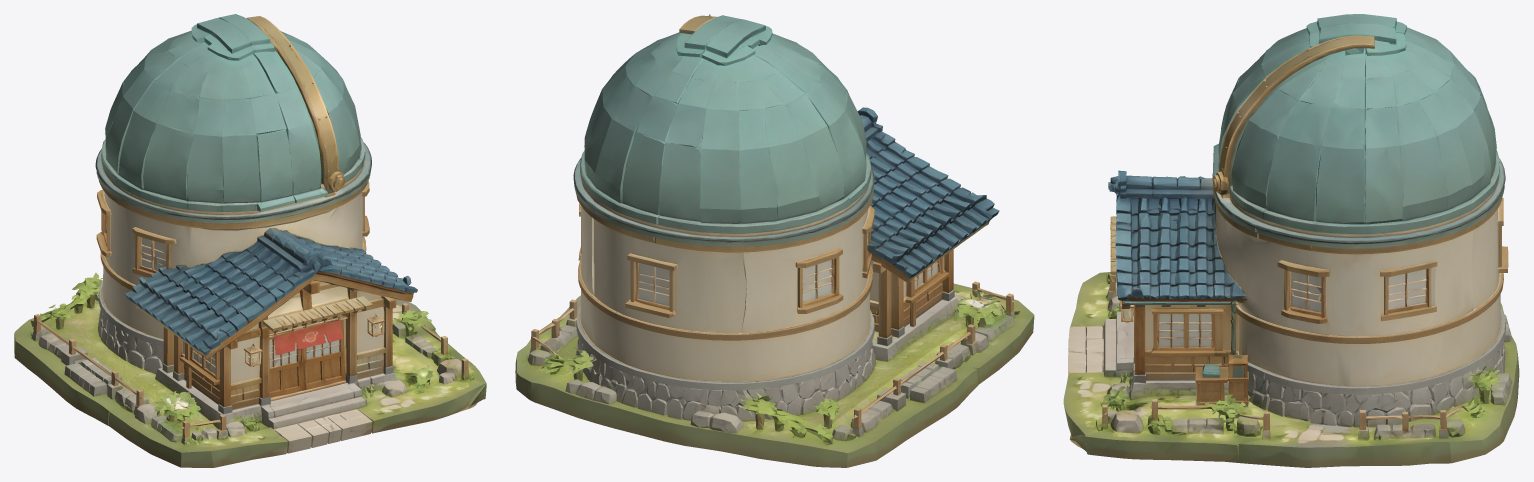
3 views of the same model, side by side, from view 1: azimuth 30°, elevation 25°; view 2: azimuth 150°, elevation 25°; view 3: azimuth 270°, elevation 25° (orthographic). The views are drawn at different scales.
Visible parts, largest first — view 1: model; view 2: model; view 3: model.
Boxes of the visible parts, box(x1,y1,x2,y2) form: model: box(14, 14, 486, 467); model: box(515, 14, 1034, 467); model: box(1063, 14, 1519, 467).
Bounding box in the file's own units: 1.85 × 1.65 × 1.9.
1 material, 1 textured.
